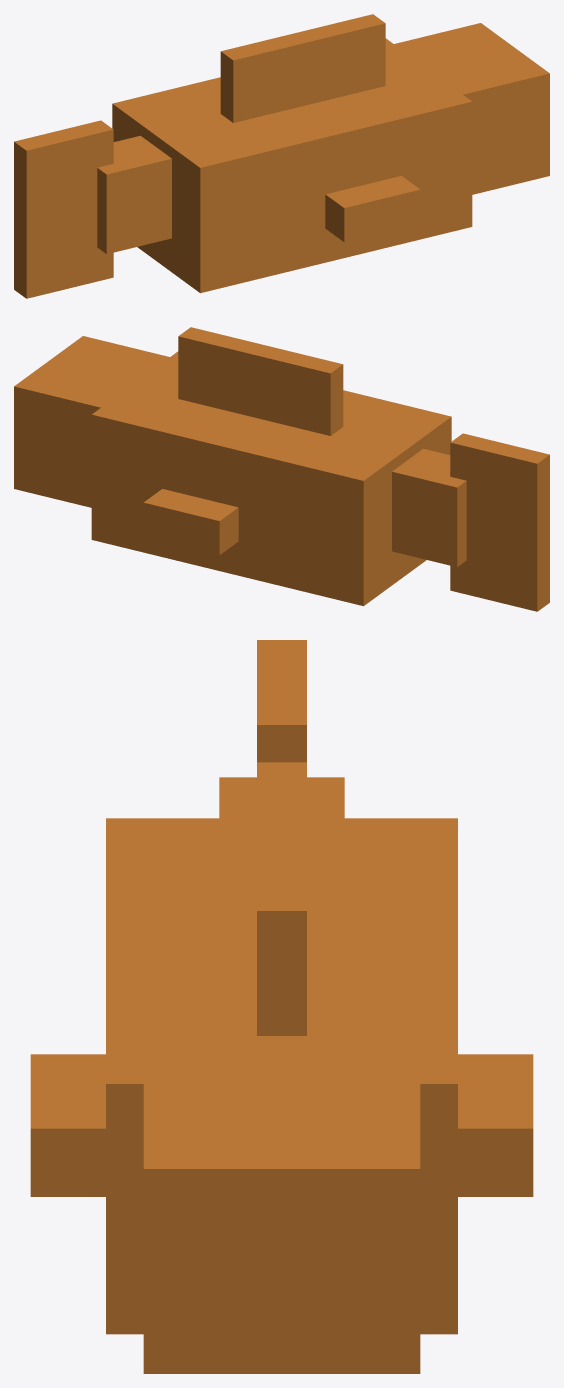
The model's file is fish_bronze_mullet.glb.
The picture shows the model from 3 angles, top to bottom: view 1: azimuth 30°, elevation 25°; view 2: azimuth 150°, elevation 25°; view 3: azimuth 270°, elevation 25°; orthographic projection. The views are drawn at different scales.
Visible parts, largest first — view 1: species.bronze_mullet; view 2: species.bronze_mullet; view 3: species.bronze_mullet.
Part boxes in pixels (bbox=[...]): species.bronze_mullet: bbox=[14, 14, 549, 298]; species.bronze_mullet: bbox=[14, 327, 549, 611]; species.bronze_mullet: bbox=[30, 640, 533, 1373].
Size of the model in its own units: 0.3 by 0.1088 by 0.1319.
